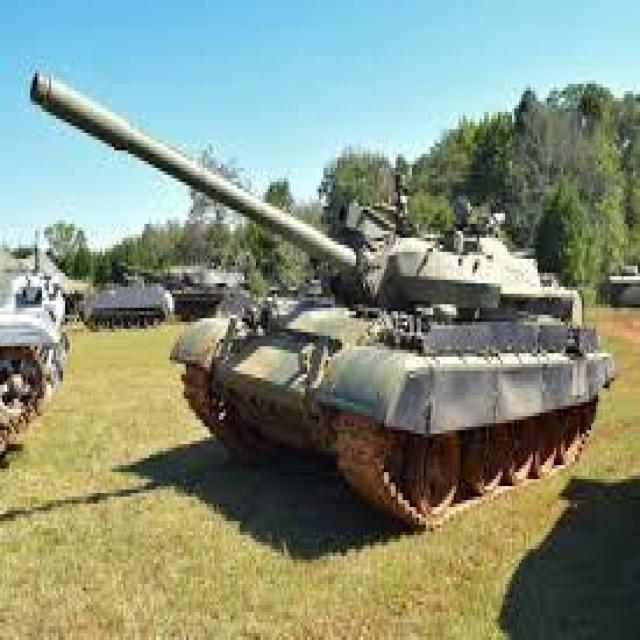Tanks: (22, 35, 567, 577)
